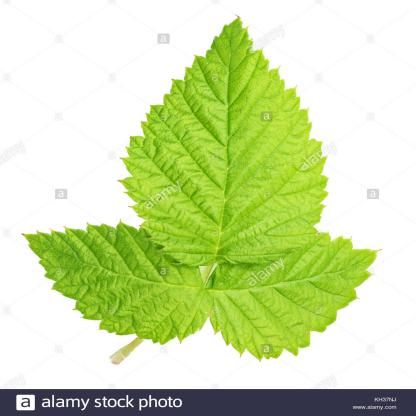raspberry leaf: (119, 11, 330, 266), (8, 222, 214, 344), (209, 226, 382, 363)
